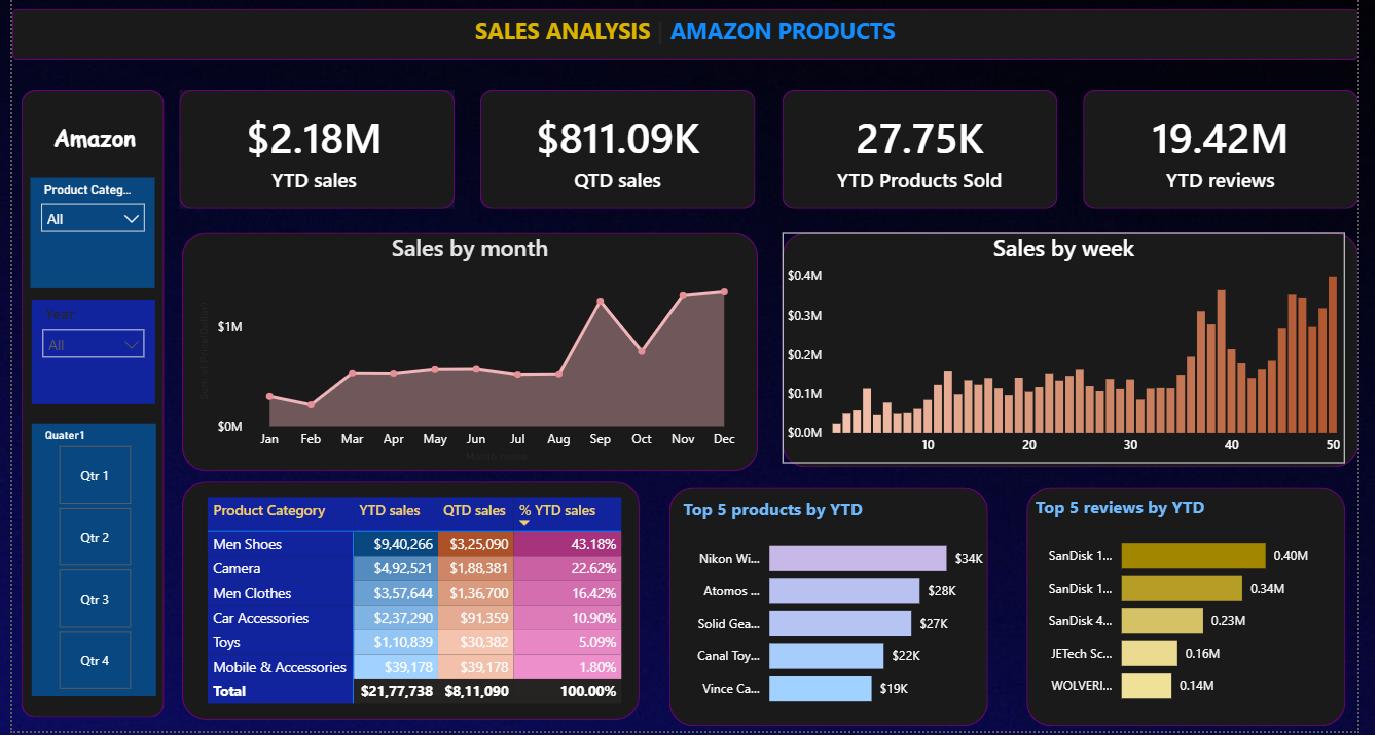

The page's visual inventory and layout, read from the dashboard file:
{"tool":"powerbi","page":{"name":"sales","canvas":[1280,720],"ordinal":0},"visuals":[{"type":"shape","box":[0,13.5,1280.3,50.1],"z":0},{"type":"textbox","box":[435.3,14.7,428,50.1],"z":1000},{"type":"shape","box":[8.6,92.9,135.7,613.9],"z":2000},{"type":"shape","box":[159,92.9,261.7,116.2],"z":3000},{"type":"card","fields":{"Values":["Amazon_Data.YTD sales"]},"box":[168.8,103.9,237.2,95.4],"z":4000},{"type":"shape","box":[445.5,92.9,261.7,116.2],"z":5000},{"type":"shape","box":[732.1,92.9,261.7,116.2],"z":6000},{"type":"shape","box":[1018.3,92.9,261.7,116.2],"z":7000},{"type":"card","fields":{"Values":["Amazon_Data.QTD sales"]},"box":[457.3,103.9,237.2,95.4],"z":8000},{"type":"card","fields":{"Values":["Amazon_Data.YTD Products Sold"]},"box":[744.7,103.9,237.2,95.4],"z":9000},{"type":"card","fields":{"Values":["Amazon_Data.YTD reviews"]},"box":[1030.8,103.9,237.2,95.4],"z":10000},{"type":"shape","box":[161.4,232.3,547.8,233.6],"z":11000},{"type":"areaChart","title":"Sales by month","fields":{"Category":["Date table.Month name"],"Y":["Sum(Amazon_Data.Price(Dollar))"]},"box":[172.4,232.3,525.8,229.9],"z":12000},{"type":"shape","box":[732.5,232.3,547.8,229.9],"z":13000},{"type":"columnChart","title":"Sales by week","fields":{"Category":["Date table.week number"],"Y":["Sum(Amazon_Data.Price(Dollar))"]},"box":[732.5,232.3,535.6,226.2],"z":14000},{"type":"shape","box":[161.4,475.7,435.3,233.6],"z":15000},{"type":"pivotTable","fields":{"Rows":["Amazon_Data.Product Category"],"Values":["Amazon_Data.YTD sales1","Amazon_Data.QTD sales","Amazon_Data.YTD sales"]},"box":[181,486.7,404.8,222.6],"z":16000},{"type":"shape","box":[624.9,481.8,303.3,233.6],"z":17000},{"type":"shape","box":[964.8,481.8,303.3,233.6],"z":18000},{"type":"clusteredBarChart","title":"Top 5 products by YTD","fields":{"Category":["Amazon_Data.Product Description"],"Y":["Amazon_Data.YTD sales"]},"box":[633.1,491,295.5,218.1],"z":19000},{"type":"clusteredBarChart","title":"Top 5 reviews by YTD","fields":{"Category":["Amazon_Data.Product Description"],"Y":["Amazon_Data.YTD reviews"]},"box":[968.5,489.1,295.9,217.7],"z":20000},{"type":"slicer","fields":{"Values":["Amazon_Data.Product Category"]},"box":[17.1,178.5,118.6,107.6],"z":21000},{"type":"slicer","fields":{"Values":["Date table.Quater1"]},"box":[18.3,419.4,118.6,266.6],"z":22000},{"type":"textbox","box":[34.2,119.8,110.1,41.6],"z":23000},{"type":"slicer","fields":{"Values":["Date table.Date.Variation.Date Hierarchy.Year"]},"box":[18.3,298.4,117.4,101.5],"z":24000}]}

Visuals, with their boxes on the page's 1280x720 design canvas (x1, y1, x2, y2). These are canvas units, not pixel positions in the 1375x738 screenshot, which may show the page scaled, cropped or inside an application window:
shape: pyautogui.locateOnScreen(0, 14, 1280, 64)
textbox: pyautogui.locateOnScreen(435, 15, 863, 65)
shape: pyautogui.locateOnScreen(9, 93, 144, 707)
shape: pyautogui.locateOnScreen(159, 93, 421, 209)
card - Amazon_Data.YTD sales: pyautogui.locateOnScreen(169, 104, 406, 199)
shape: pyautogui.locateOnScreen(446, 93, 707, 209)
shape: pyautogui.locateOnScreen(732, 93, 994, 209)
shape: pyautogui.locateOnScreen(1018, 93, 1280, 209)
card - Amazon_Data.QTD sales: pyautogui.locateOnScreen(457, 104, 694, 199)
card - Amazon_Data.YTD Products Sold: pyautogui.locateOnScreen(745, 104, 982, 199)
card - Amazon_Data.YTD reviews: pyautogui.locateOnScreen(1031, 104, 1268, 199)
shape: pyautogui.locateOnScreen(161, 232, 709, 466)
"Sales by month" areaChart: pyautogui.locateOnScreen(172, 232, 698, 462)
shape: pyautogui.locateOnScreen(732, 232, 1280, 462)
"Sales by week" columnChart: pyautogui.locateOnScreen(732, 232, 1268, 458)
shape: pyautogui.locateOnScreen(161, 476, 597, 709)
pivotTable - Amazon_Data.Product Category x Amazon_Data.YTD sales1: pyautogui.locateOnScreen(181, 487, 586, 709)
shape: pyautogui.locateOnScreen(625, 482, 928, 715)
shape: pyautogui.locateOnScreen(965, 482, 1268, 715)
"Top 5 products by YTD" clusteredBarChart: pyautogui.locateOnScreen(633, 491, 929, 709)
"Top 5 reviews by YTD" clusteredBarChart: pyautogui.locateOnScreen(968, 489, 1264, 707)
slicer - Amazon_Data.Product Category: pyautogui.locateOnScreen(17, 178, 136, 286)
slicer - Date table.Quater1: pyautogui.locateOnScreen(18, 419, 137, 686)
textbox: pyautogui.locateOnScreen(34, 120, 144, 161)
slicer - Date table.Date.Variation.Date Hierarchy.Year: pyautogui.locateOnScreen(18, 298, 136, 400)
